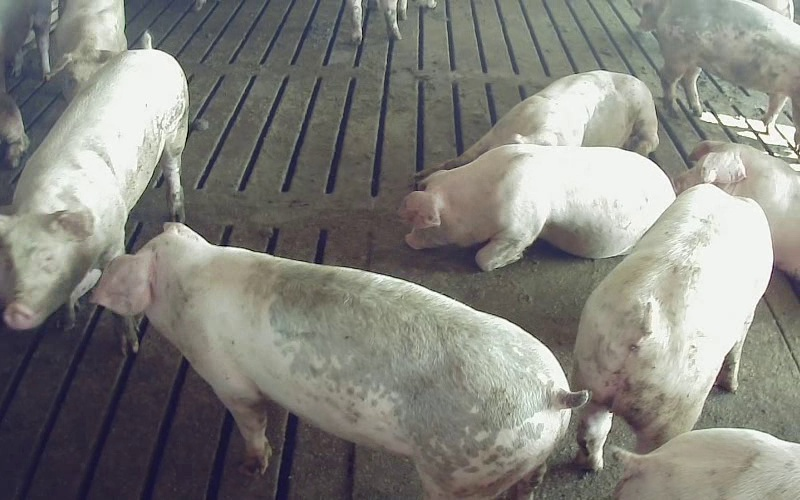pig: (93, 223, 586, 497), (572, 184, 772, 470), (399, 144, 674, 270), (417, 70, 658, 178), (635, 0, 799, 152), (675, 141, 799, 280)
